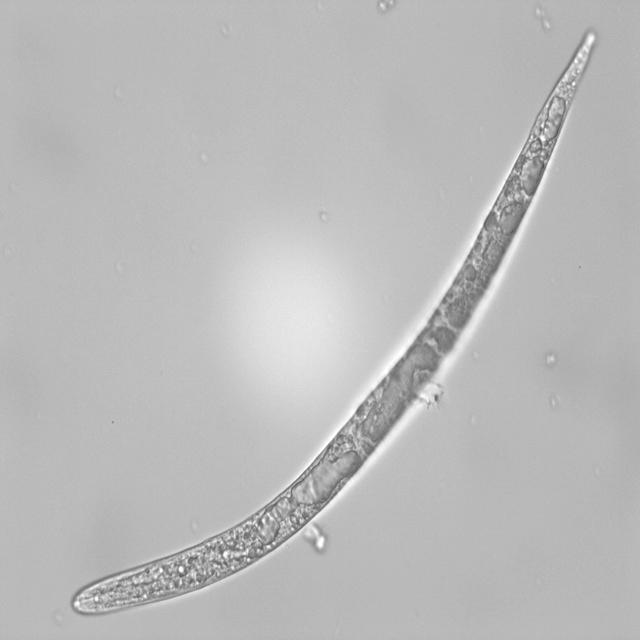Radopholus: (64, 19, 602, 618)
